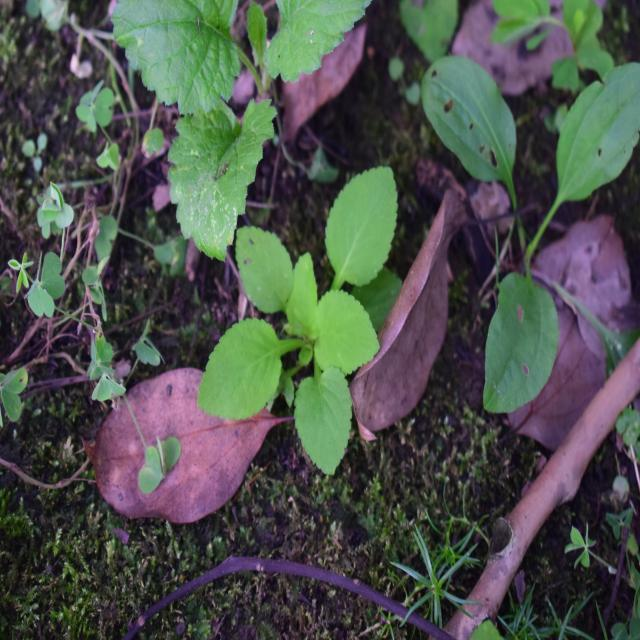Viola: (220, 165, 412, 490)
